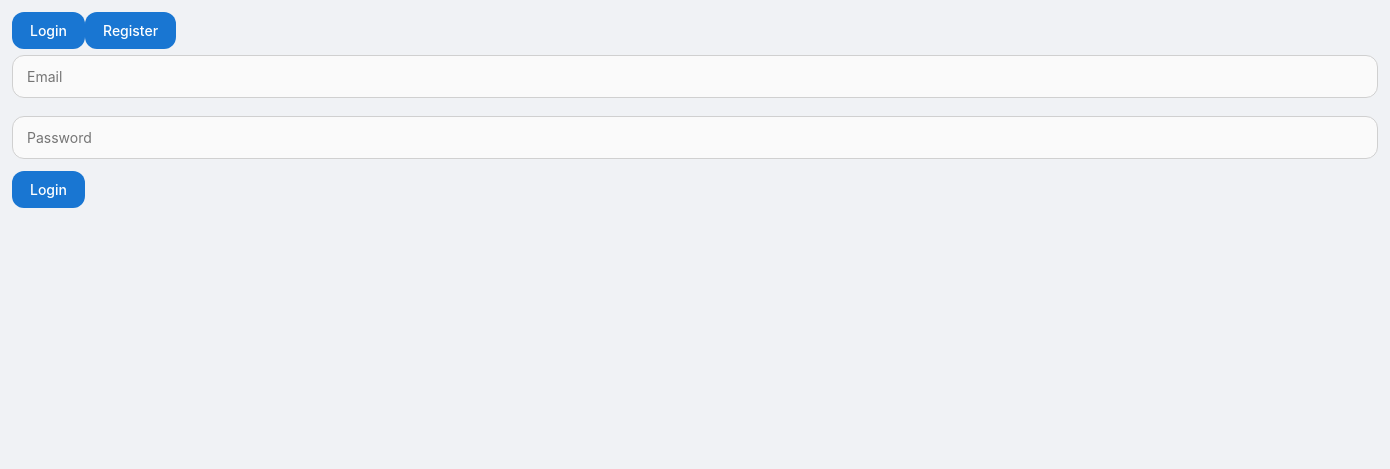
Test: AuthForm component › 点击 Register 按钮切换到注册模式
The width and height of the screenshot is (1390, 469).
初始是 login 模式，点击顶部的 Register 切换
Step 1. Click the button "Register" → click(131, 30), box [85,12,176,49]
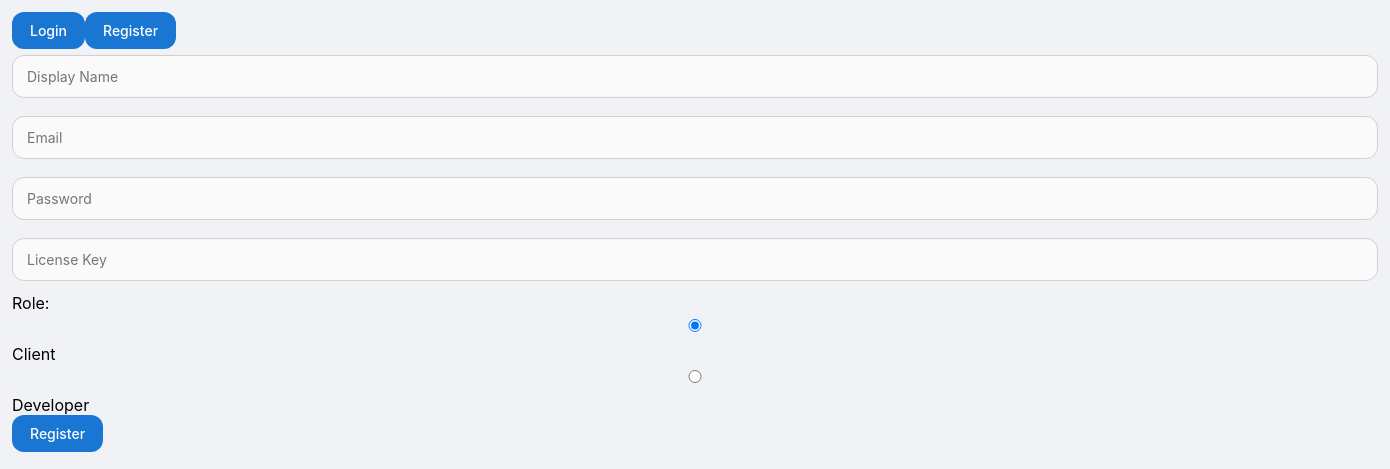
Now the field with placeholder "Display Name" is shown, box [12,55,1378,98]
Now the field with placeholder "License Key" is shown, box [12,238,1378,281]
